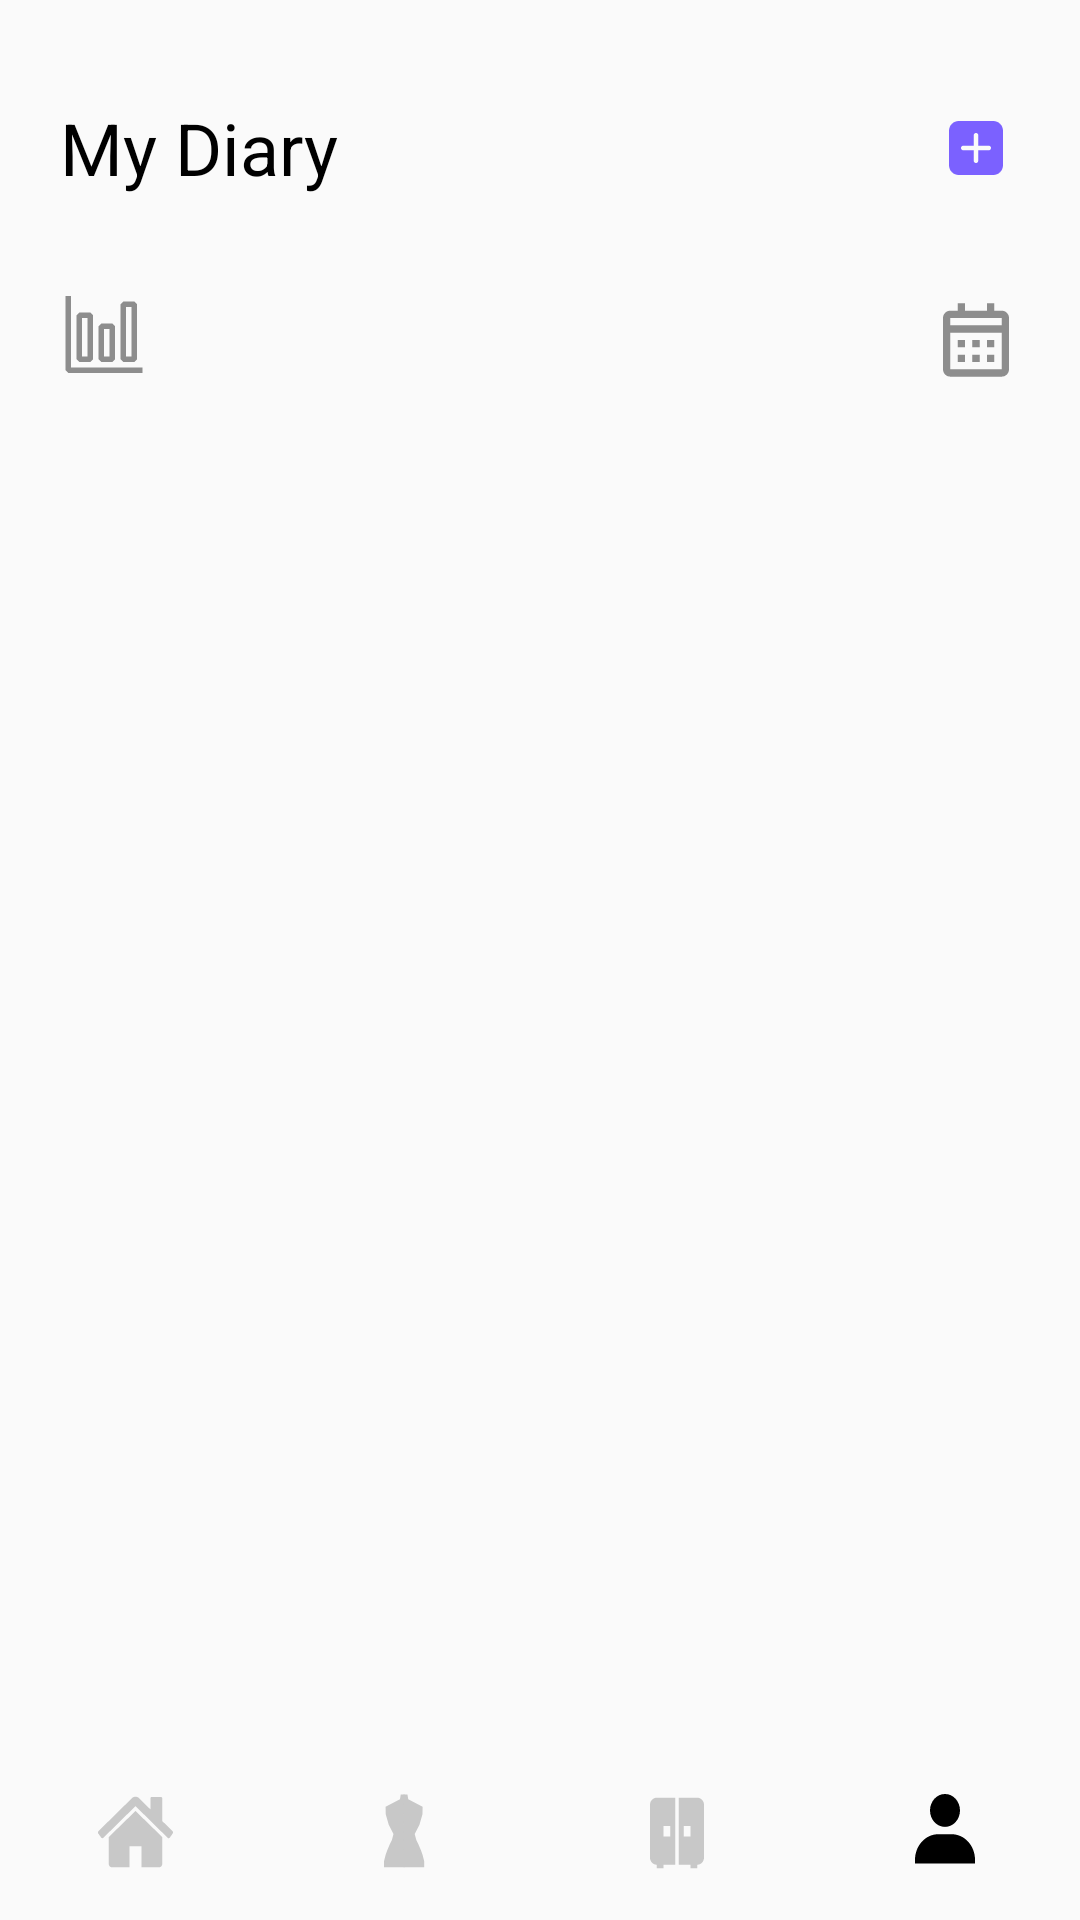

Icon click points for this 1080px×1920px phone screenshot, format (x,y):
add clothes: (976,148)
calendar: (976,340)
closet: (677,1833)
codicon graph: (104,334)
home: (135,1832)
user: (945,1829)
